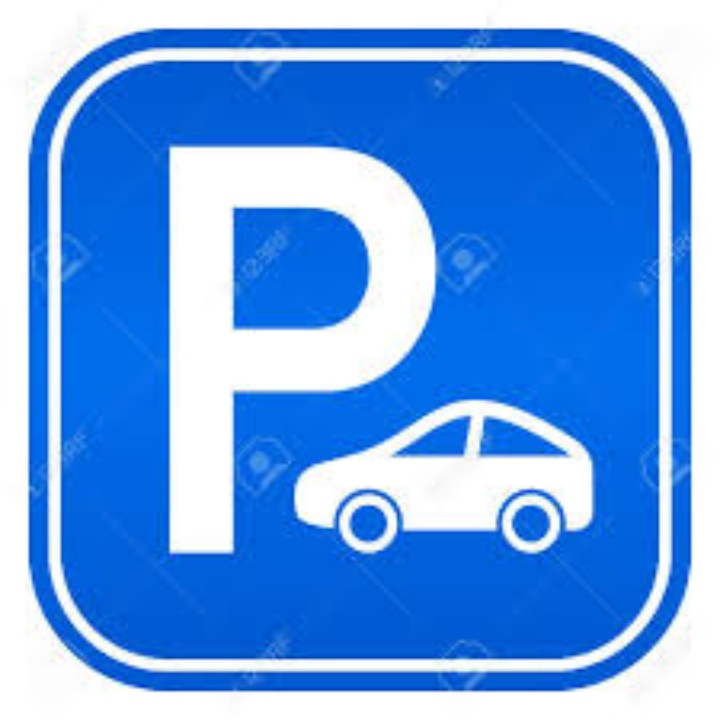parking: (147, 130, 443, 564)
